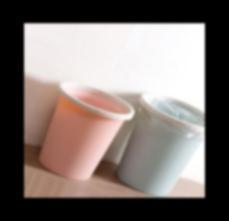Bote de Basura: (115, 83, 204, 197), (35, 78, 133, 181)
